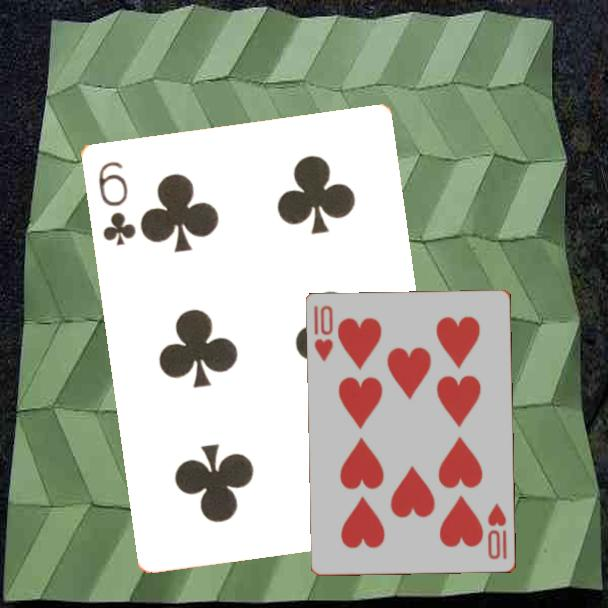c06: (94, 157, 138, 248)
h10: (484, 500, 510, 563), (311, 302, 336, 364)
